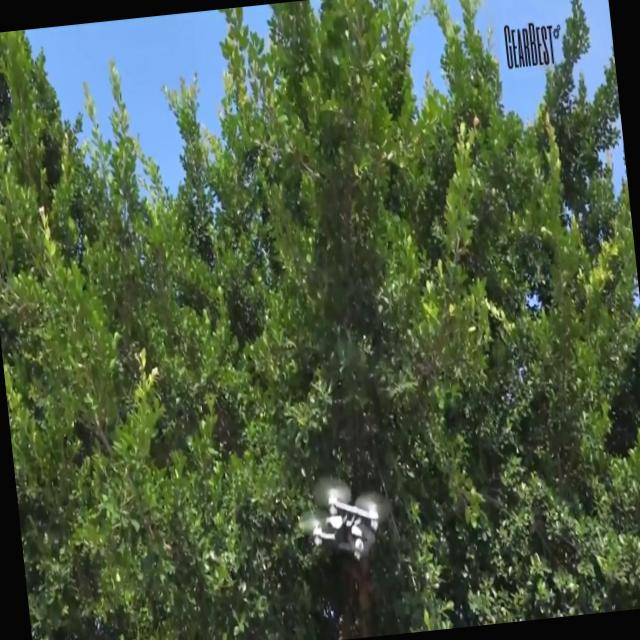drone: (298, 468, 391, 572)
